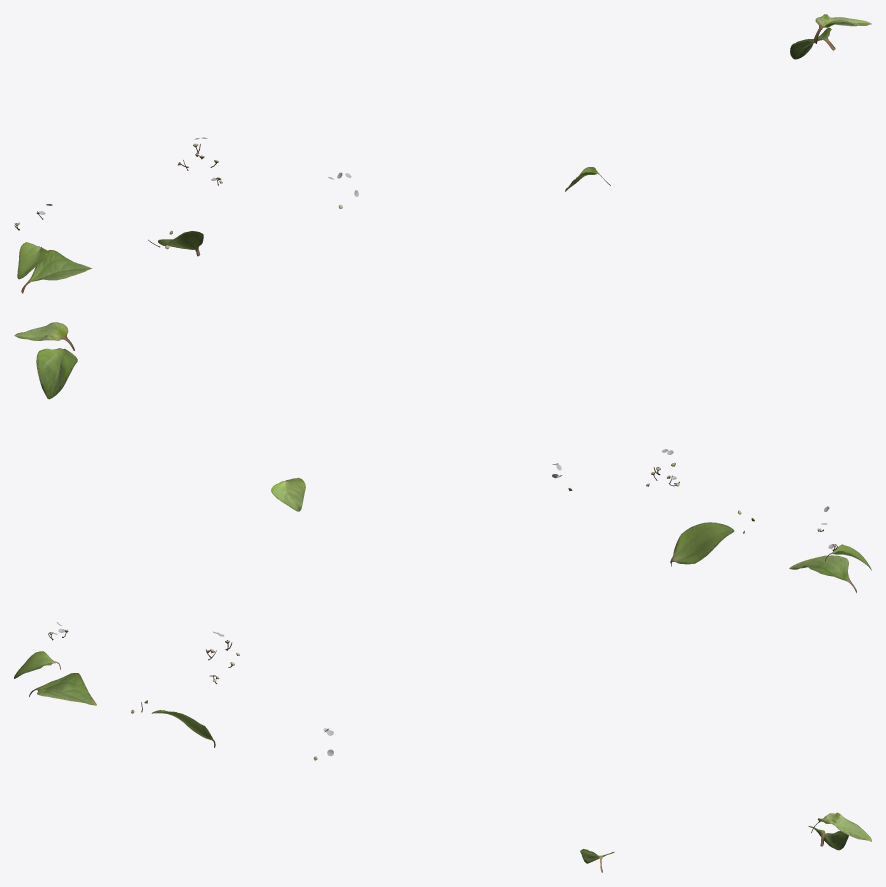
The model's file is shrub_01.glb.
3 renders of one model, top to bottom at view 1: azimuth 30°, elevation 25°; view 2: azimuth 150°, elevation 25°; view 3: azimuth 330°, elevation 25°, orthographic.
Parts seen in each view (by area): view 1: shrub_01_lod0; view 2: shrub_01_lod0; view 3: shrub_01_lod0.
Part boxes in pixels (x1=…): shrub_01_lod0: x1=14, y1=14, x2=871, y2=293; shrub_01_lod0: x1=14, y1=322, x2=871, y2=593; shrub_01_lod0: x1=14, y1=622, x2=871, y2=872.
Size of what is drawn, in the model's own units: 2.28 by 0.3763 by 0.2069.
Materials: 1 (1 with a texture image).
